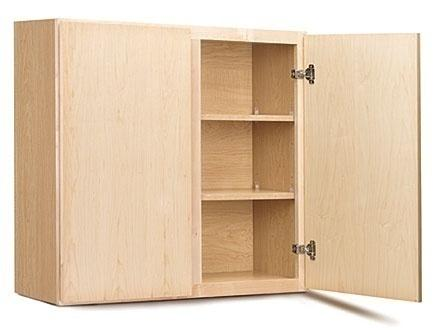cabinet_door: (59, 23, 193, 299), (306, 44, 419, 293)
